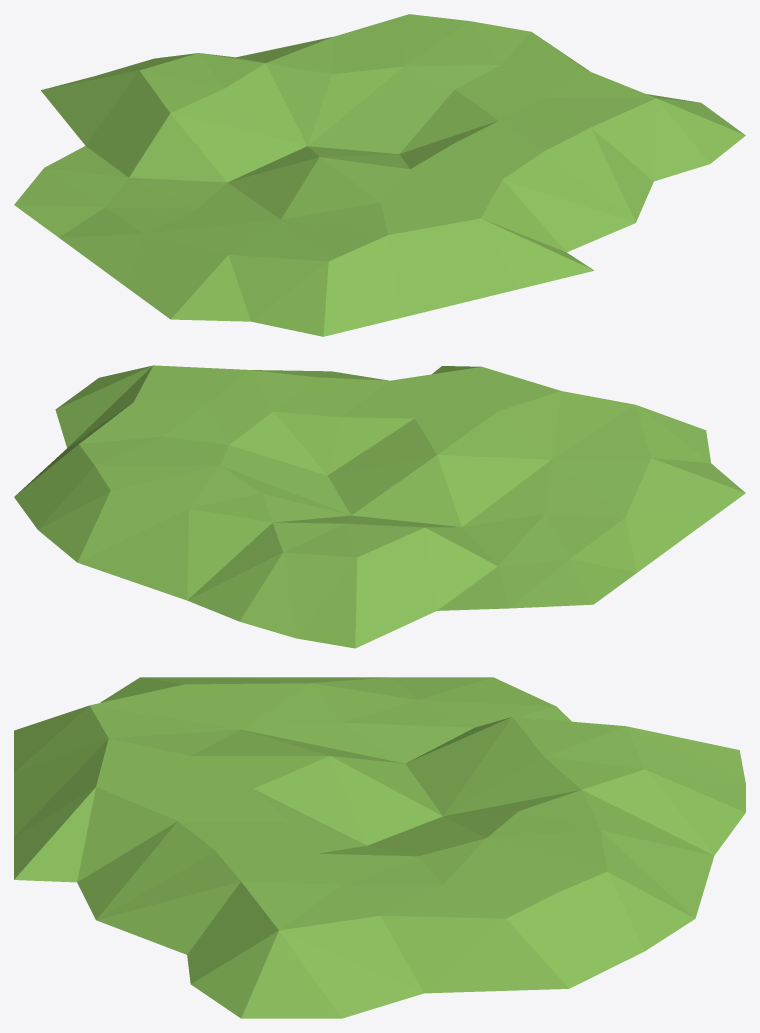
The model's file is MT_Mountain_S_c_24_LOD.fbx.
3 views of the same model, one above another, from view 1: azimuth 30°, elevation 25°; view 2: azimuth 150°, elevation 25°; view 3: azimuth 270°, elevation 25° (orthographic). The views are drawn at different scales.
Parts seen in each view (by area): view 1: MT_Mountain_S_c_24_LOD0; view 2: MT_Mountain_S_c_24_LOD0; view 3: MT_Mountain_S_c_24_LOD0.
Part boxes in pixels (<box>): MT_Mountain_S_c_24_LOD0: <box>14,14,745,336</box>; MT_Mountain_S_c_24_LOD0: <box>14,365,745,648</box>; MT_Mountain_S_c_24_LOD0: <box>14,677,745,1018</box>.
Size of what is drawn, in the model's own units: 2500 by 188 by 2266.
